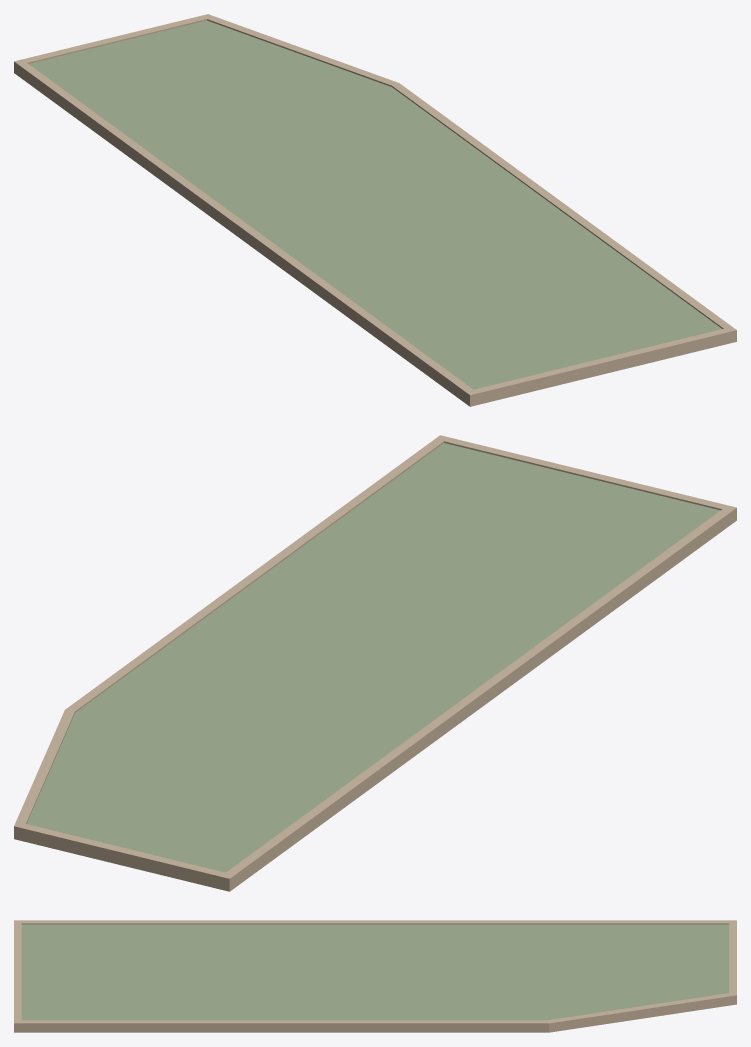
Rendered from BC_NatureFrame_A.fbx.
The picture shows the model from 3 angles, top to bottom: view 1: azimuth 30°, elevation 25°; view 2: azimuth 150°, elevation 25°; view 3: azimuth 270°, elevation 25°; orthographic projection. The views are drawn at different scales.
Parts seen in each view (by area): view 1: BC_NatureFrame_A; view 2: BC_NatureFrame_A; view 3: BC_NatureFrame_A.
Boxes of the visible parts, x1,y1,x2,y2 form: BC_NatureFrame_A: (14, 14, 736, 406); BC_NatureFrame_A: (14, 435, 736, 891); BC_NatureFrame_A: (14, 920, 736, 1032).
Size of the model in its own units: 2411 by 101 by 7137.
